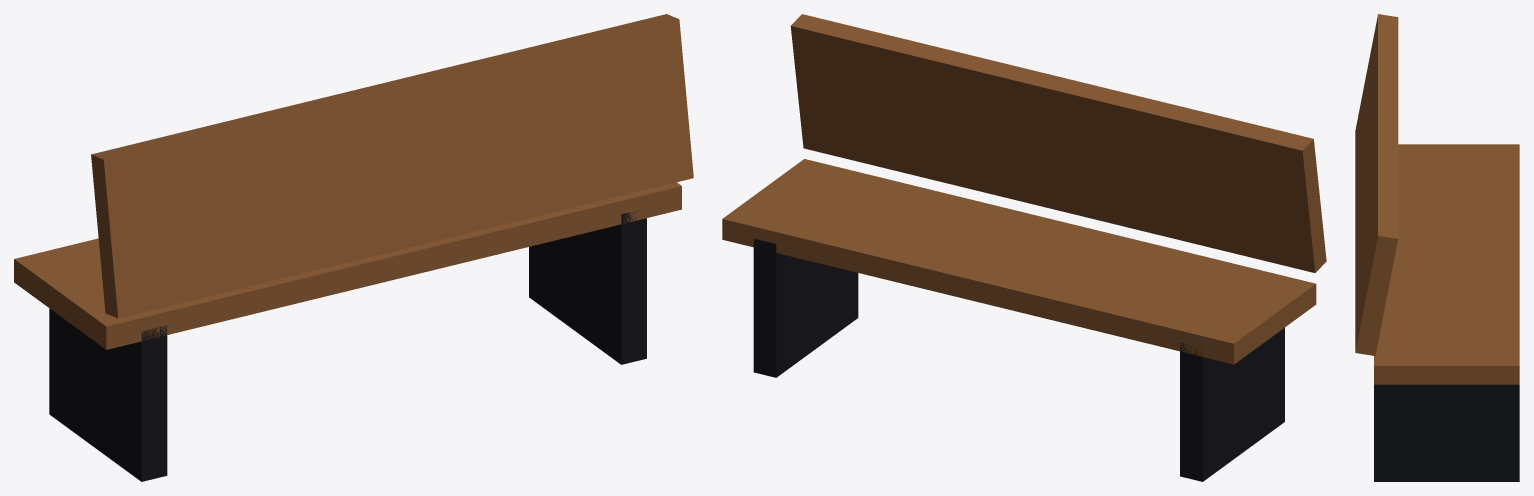
Rendered from prop_bench.glb.
The picture shows the model from 3 angles, left to right: view 1: azimuth 30°, elevation 25°; view 2: azimuth 150°, elevation 25°; view 3: azimuth 270°, elevation 25°; orthographic projection. The views are drawn at different scales.
Parts seen in each view (by area): view 1: prop_bench__mesh; view 2: prop_bench__mesh; view 3: prop_bench__mesh.
Part boxes in pixels (x1,y1,x2,y2): prop_bench__mesh: [14, 14, 693, 481]; prop_bench__mesh: [722, 14, 1326, 481]; prop_bench__mesh: [1355, 14, 1519, 481].
Bounding box in the file's own units: 1.8 × 0.9827 × 0.5635.
